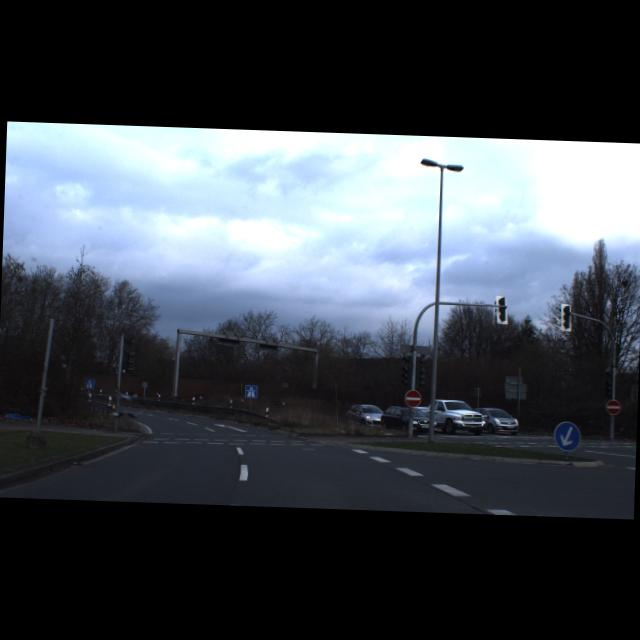mandatory: (553, 419, 581, 452)
other: (404, 389, 422, 408), (606, 398, 620, 414)
